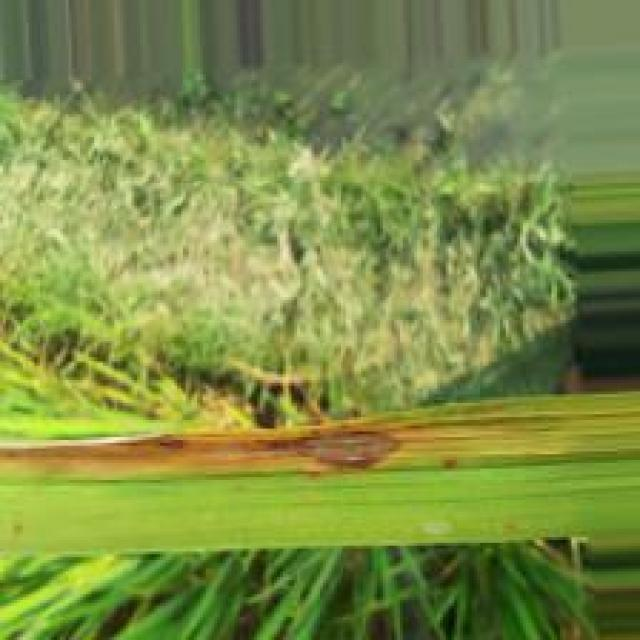Leaf_Blast: (0, 413, 595, 485)
